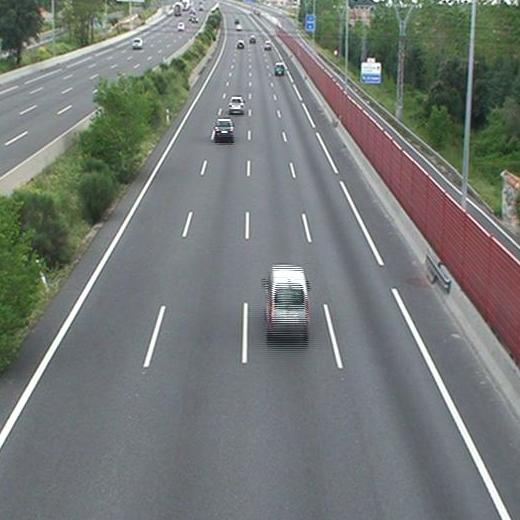car: (215, 119, 234, 139), (228, 98, 245, 113), (274, 63, 284, 74), (263, 41, 271, 50), (236, 40, 244, 48), (248, 36, 255, 42)
van: (265, 266, 308, 335)
